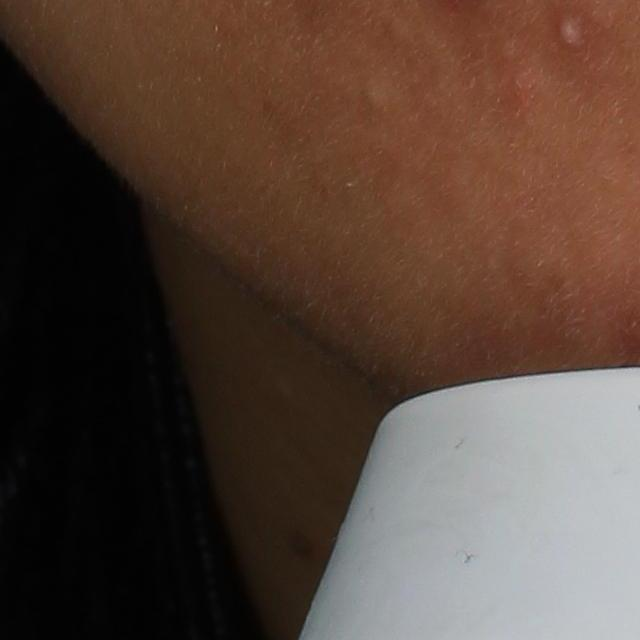comedo: (359, 82, 387, 113)
papule: (498, 65, 540, 112)
